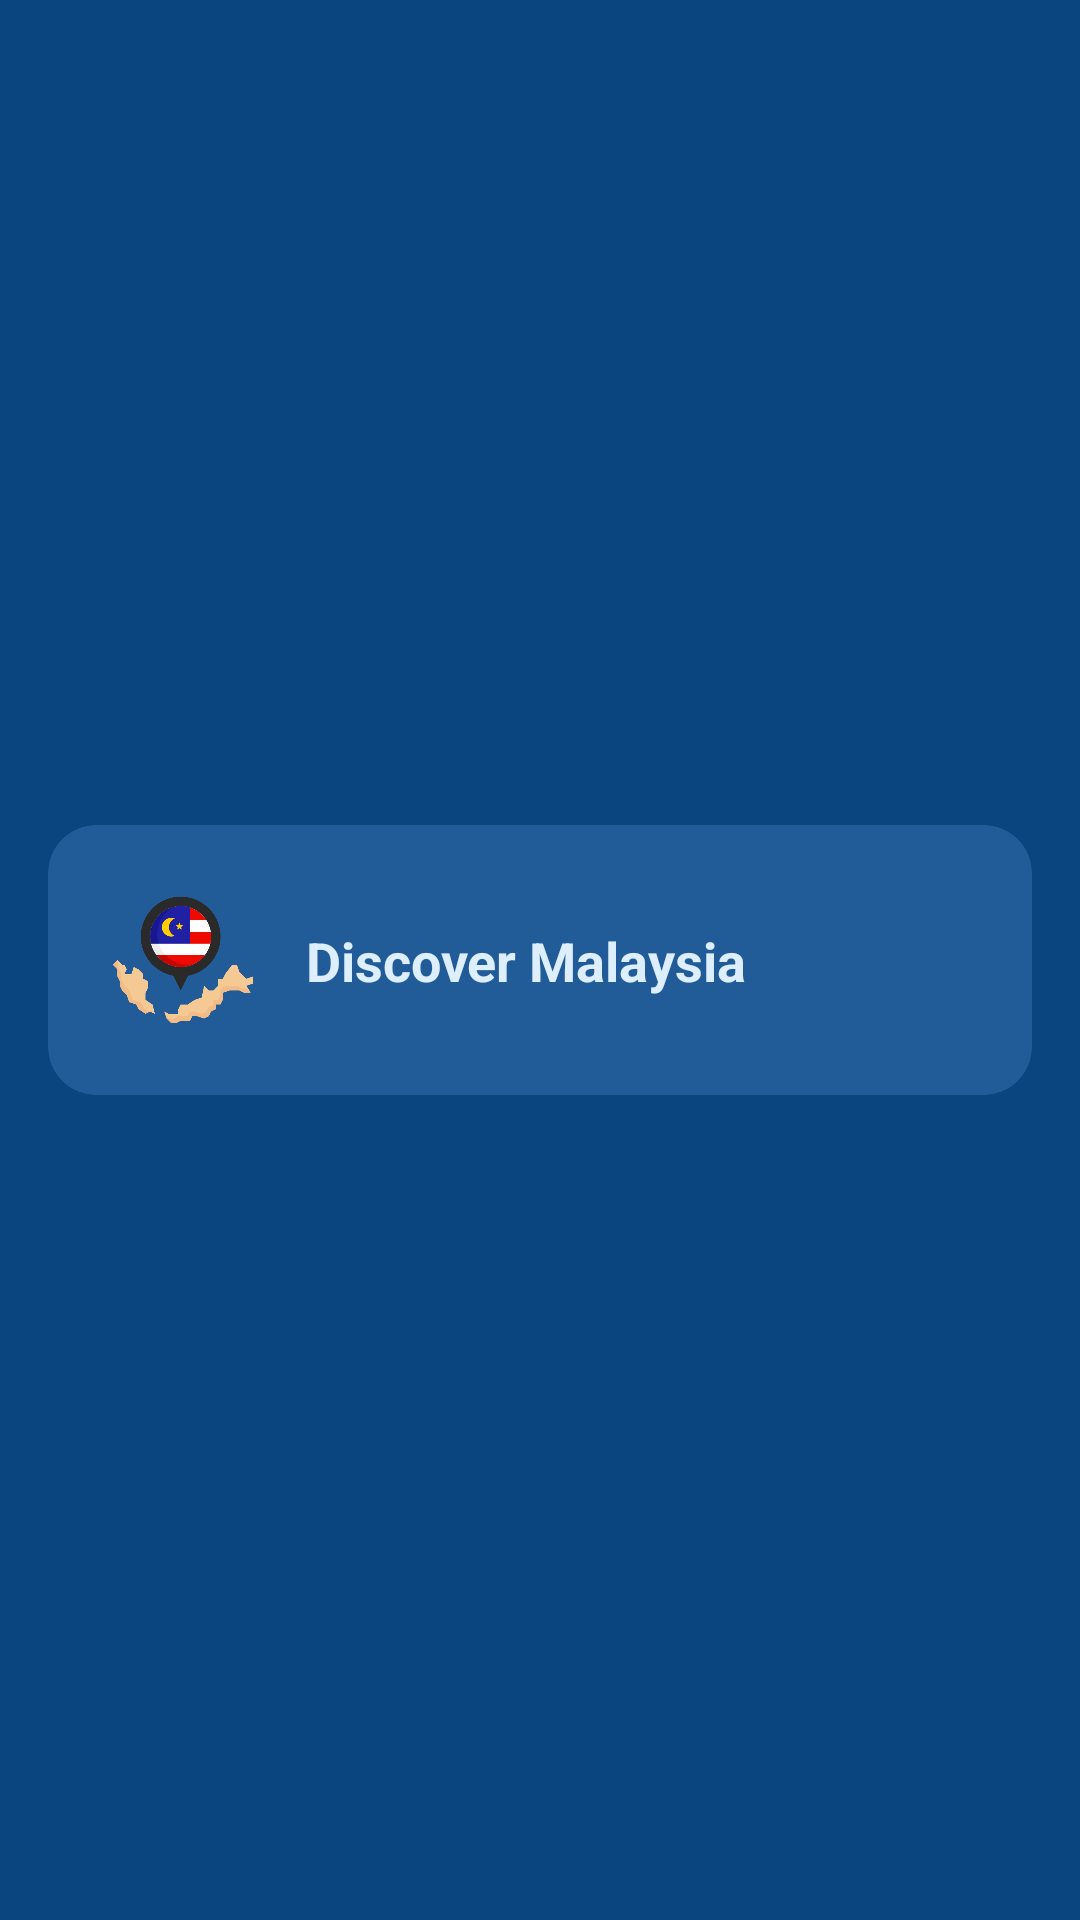

Named icons in this screenshot (1080px x 1920px) and their centers, [x,y]:
malaysia app: [183,960]
